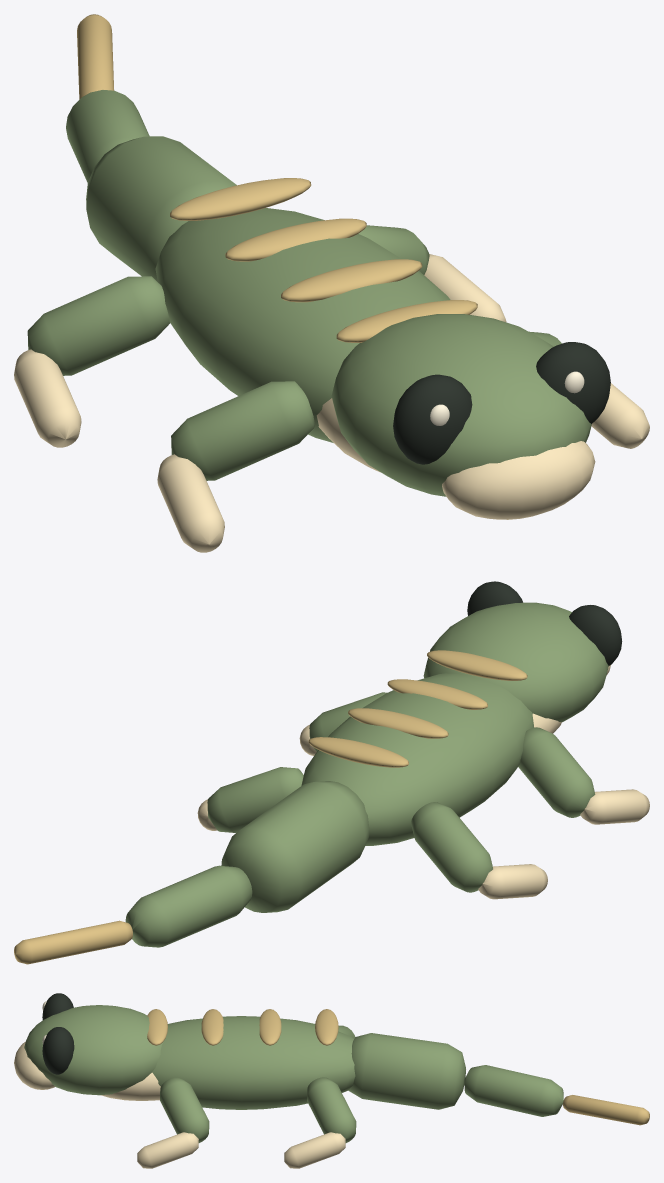
The model's file is desert_lizard.glb.
The picture shows the model from 3 angles, top to bottom: view 1: azimuth 30°, elevation 25°; view 2: azimuth 150°, elevation 25°; view 3: azimuth 270°, elevation 25°; orthographic projection. The views are drawn at different scales.
Parts seen in each view (by area): view 1: Head.002, Body.002, Tail.002, Foot0.002, Foot2.002, Foot3.002, Foot1.002; view 2: Body.002, Tail.002, Head.002, Foot2.002, Foot0.002, Foot3.002, Foot1.002; view 3: Body.002, Tail.002, Head.002, Foot3.002, Foot1.002.
Boxes of the visible parts, x1,y1,x2,y2 form: Head.002: (331, 314, 610, 519); Body.002: (155, 178, 477, 472); Tail.002: (66, 14, 236, 281); Foot0.002: (157, 381, 314, 552); Foot2.002: (14, 276, 169, 447); Foot3.002: (358, 225, 506, 322); Foot1.002: (529, 331, 649, 448); Body.002: (301, 650, 561, 845); Tail.002: (14, 781, 369, 964); Head.002: (423, 581, 622, 722); Foot2.002: (411, 802, 547, 899); Foot0.002: (518, 727, 649, 824); Foot3.002: (197, 767, 303, 832); Foot1.002: (299, 692, 386, 755); Body.002: (101, 1009, 355, 1109); Tail.002: (348, 1033, 649, 1125); Head.002: (14, 993, 163, 1095); Foot3.002: (284, 1077, 356, 1168); Foot1.002: (137, 1077, 209, 1168).
Bounding box in the file's own units: 0.5781 × 0.2401 × 1.34.
